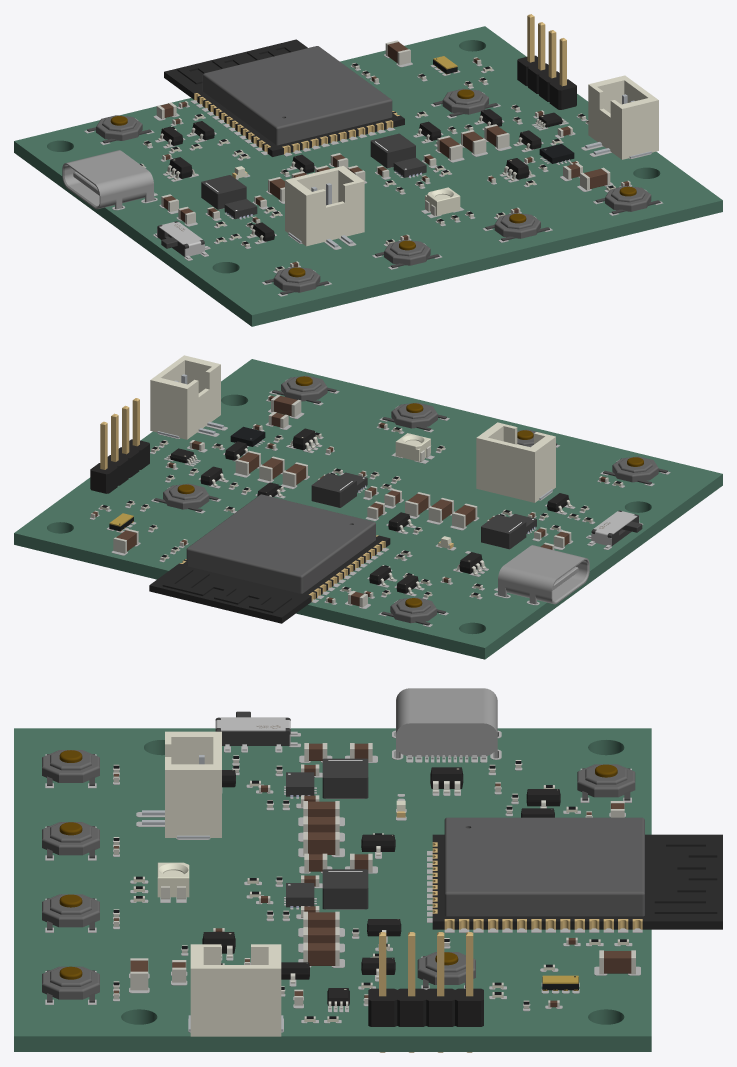
The model's file is current-pcb.glb.
3 views of the same model, one above another, from view 1: azimuth 30°, elevation 25°; view 2: azimuth 150°, elevation 25°; view 3: azimuth 270°, elevation 25° (orthographic). The views are drawn at different scales.
Visible parts, largest first — view 1: =>[0:1:1:23], U3, housing (×2), =>[0:1:1:22], J2, J4, SW1, L2, L1, SW4, SW6, SW5 (+7 smaller); view 2: =>[0:1:1:23], U3, housing (×2), J2, =>[0:1:1:22], J4, L1, L2, SW1, SW6, SW2, SW4 (+4 smaller); view 3: =>[0:1:1:23], U3, housing (×2), J2, =>[0:1:1:22], J4, SW1, L1, L2, SW2, SW6, SW5 (+19 smaller).
Part boxes in pixels (left/top/right/bottom): =>[0:1:1:23]: left=14, top=26, right=722, bottom=326; U3: left=164, top=39, right=404, bottom=156; housing (×2): left=285, top=75, right=658, bottom=246; =>[0:1:1:22]: left=84, top=54, right=663, bottom=296; J2: left=62, top=150, right=153, bottom=209; J4: left=517, top=14, right=576, bottom=109; SW1: left=155, top=221, right=208, bottom=259; L2: left=370, top=133, right=415, bottom=168; L1: left=201, top=175, right=246, bottom=209; SW4: left=264, top=266, right=329, bottom=294; SW6: left=485, top=213, right=549, bottom=241; SW5: left=375, top=240, right=439, bottom=267; =>[0:1:1:23]: left=14, top=359, right=722, bottom=659; U3: left=149, top=494, right=390, bottom=623; housing (×2): left=150, top=355, right=555, bottom=502; J2: left=498, top=545, right=589, bottom=604; =>[0:1:1:22]: left=89, top=379, right=670, bottom=627; J4: left=90, top=398, right=149, bottom=493; L1: left=481, top=514, right=526, bottom=549; L2: left=311, top=473, right=356, bottom=507; SW1: left=587, top=510, right=642, bottom=548; SW6: left=382, top=402, right=446, bottom=430; SW2: left=381, top=597, right=445, bottom=625; SW4: left=603, top=456, right=667, bottom=484; =>[0:1:1:23]: left=14, top=728, right=651, bottom=1051; U3: left=432, top=817, right=722, bottom=929; housing (×2): left=165, top=731, right=281, bottom=1036; J2: left=396, top=688, right=497, bottom=759; =>[0:1:1:22]: left=45, top=730, right=642, bottom=1032; J4: left=368, top=932, right=483, bottom=1052; SW1: left=215, top=711, right=297, bottom=750; L1: left=322, top=758, right=368, bottom=798; L2: left=322, top=869, right=368, bottom=909; SW2: left=577, top=764, right=635, bottom=800; SW6: left=42, top=894, right=99, bottom=930; SW5: left=42, top=822, right=99, bottom=858.
Bounding box in the file's own units: 0.0655 × 0.0115 × 0.0623.
